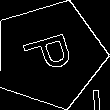P_E: (18, 30, 81, 80)
